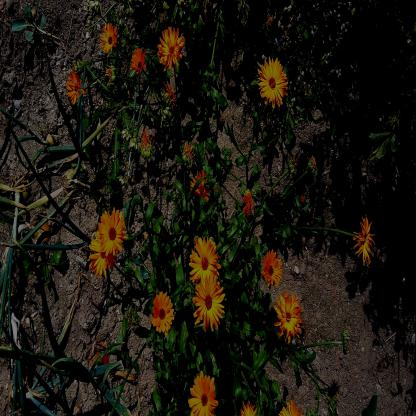marigold: (188, 234, 222, 288), (192, 277, 226, 330), (257, 55, 289, 109), (87, 227, 117, 277), (187, 368, 218, 416), (97, 207, 127, 256), (275, 290, 303, 341), (157, 25, 185, 72), (148, 289, 174, 335), (190, 168, 213, 210), (261, 248, 282, 290), (67, 69, 86, 104), (99, 22, 119, 53), (130, 46, 148, 74)
